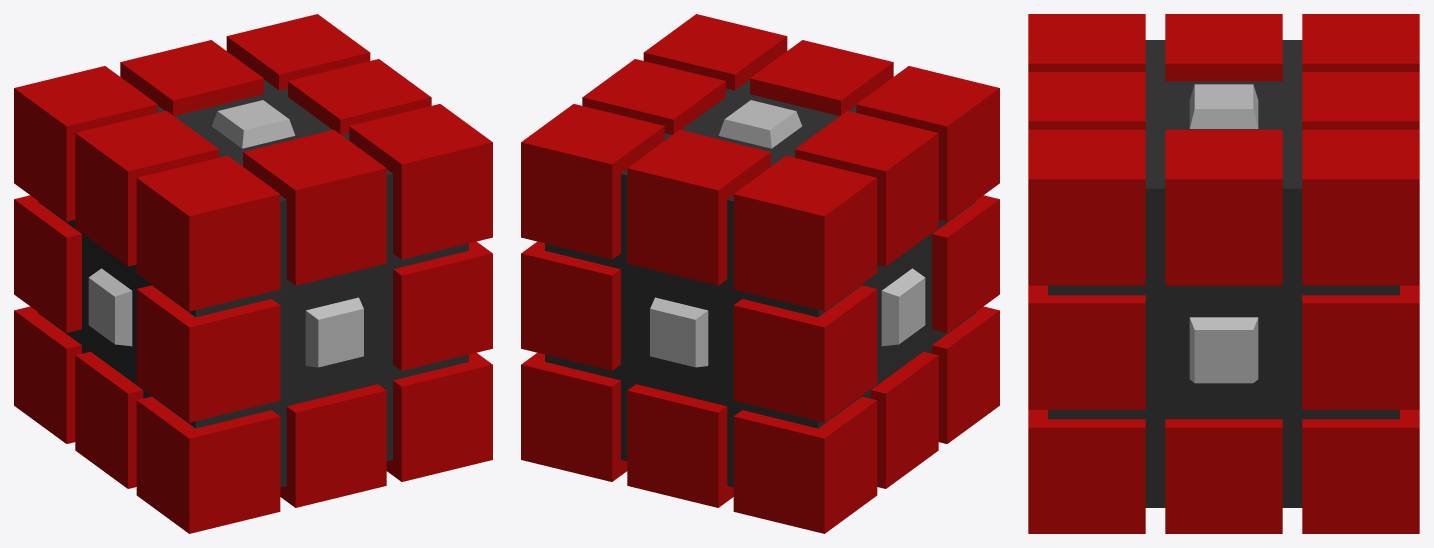
Rendered from puzzle_cube.fbx.
The picture shows the model from 3 angles, left to right: view 1: azimuth 30°, elevation 25°; view 2: azimuth 150°, elevation 25°; view 3: azimuth 270°, elevation 25°; orthographic projection. The views are drawn at different scales.
Visible parts, largest first — view 1: Cube.010; view 2: Cube.010; view 3: Cube.010.
Part boxes in pixels (bbox=[...]): Cube.010: bbox=[14, 14, 492, 533]; Cube.010: bbox=[521, 14, 999, 533]; Cube.010: bbox=[1028, 14, 1419, 533].
Bounding box in the file's own units: 100 × 100 × 100.
